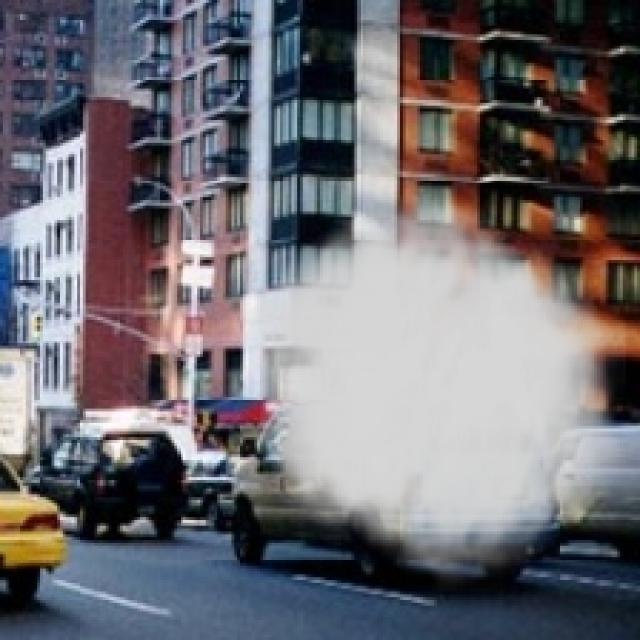Smoke: (231, 183, 626, 592)
